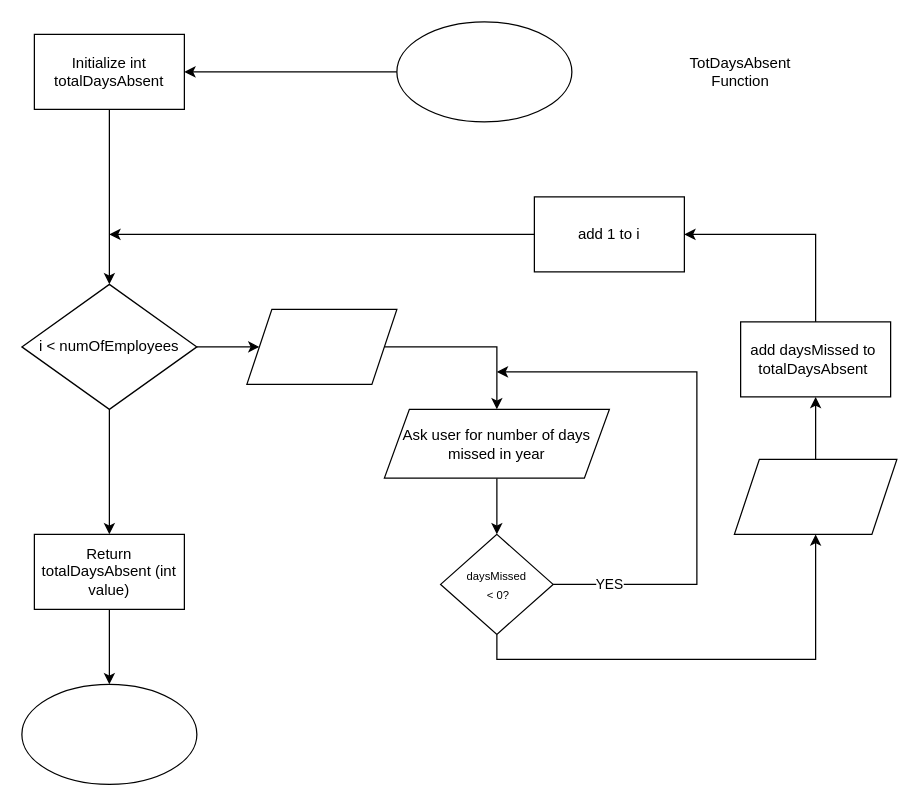
Some shapes in this 919 by 806 pixel diagram are drawn without their labels. The shapes that lost their labels are listed below. From the top down, each one's box as (x1, y1, x2, y2) in pixels, then its label:
(396, 21, 572, 122): Start function (param numOfEmployees)
(246, 308, 397, 384): Read employee id number
(733, 458, 897, 534): Write information to outfile
(21, 683, 197, 784): End function (param numOfEmployees)
